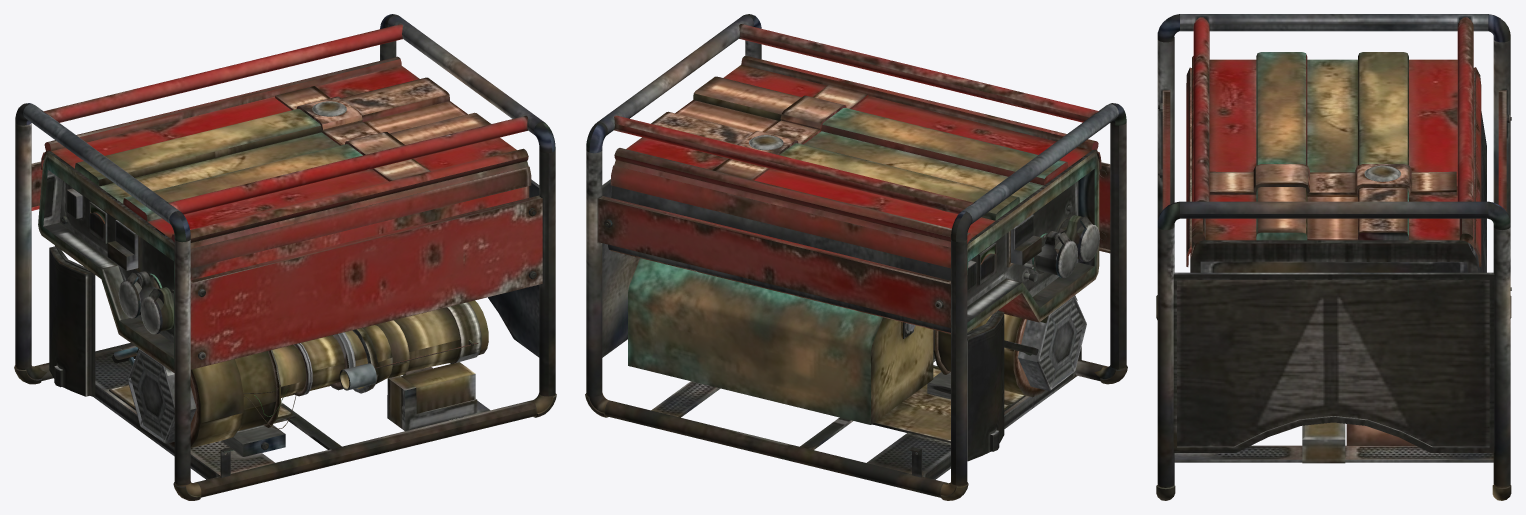
Rendered from generator.fbx.
3 renders of one model, left to right at view 1: azimuth 30°, elevation 25°; view 2: azimuth 150°, elevation 25°; view 3: azimuth 270°, elevation 25°, orthographic. The views are drawn at different scales.
Visible parts, largest first — view 1: defaultMaterial.052; view 2: defaultMaterial.052; view 3: defaultMaterial.052.
Part boxes in pixels (box(x1,y1,x2,y2)): defaultMaterial.052: box(14, 14, 556, 500); defaultMaterial.052: box(585, 14, 1127, 500); defaultMaterial.052: box(1156, 14, 1511, 500).
Bounding box in the file's own units: 200 × 144 × 153.
Materials: 1 (1 with a texture image).
